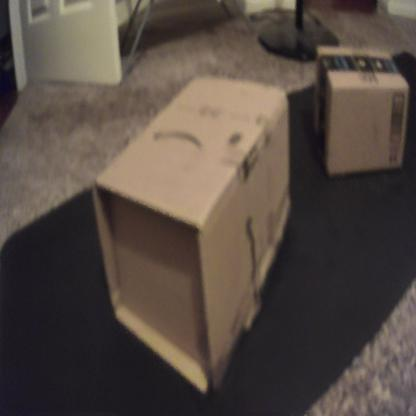package: (88, 63, 294, 408), (313, 42, 409, 182)
